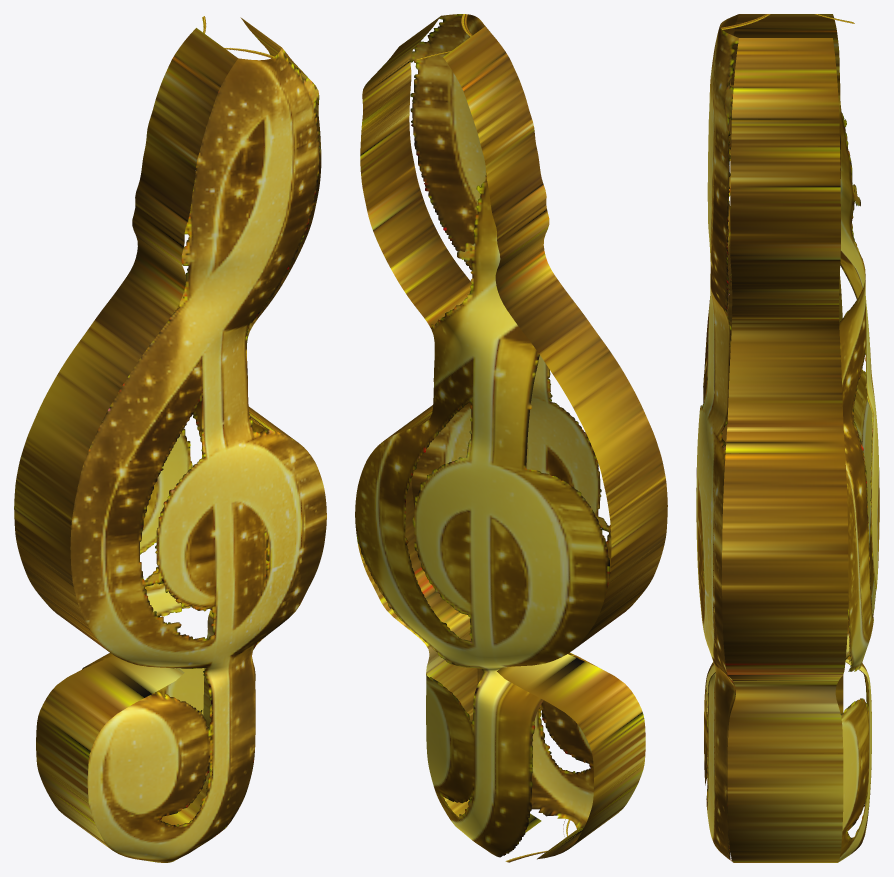
The model's file is solda ile 1 .glb.
3 views of the same model, side by side, from view 1: azimuth 30°, elevation 25°; view 2: azimuth 150°, elevation 25°; view 3: azimuth 270°, elevation 25° (orthographic). The views are drawn at different scales.
Parts seen in each view (by area): view 1: Personnage V4 Neural; view 2: Personnage V4 Neural; view 3: Personnage V4 Neural.
Part boxes in pixels (x1=…): Personnage V4 Neural: x1=14, y1=16, x2=326, y2=862; Personnage V4 Neural: x1=355, y1=14, x2=667, y2=862; Personnage V4 Neural: x1=696, y1=14, x2=879, y2=862.
Bounding box in the file's own units: 0.6879 × 2 × 0.3798.
1 material, 1 textured.
